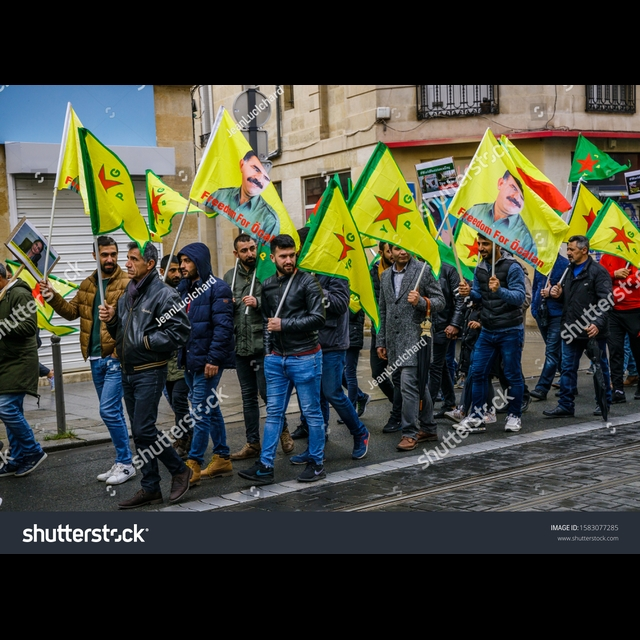APO: (495, 169, 526, 217), (238, 150, 268, 195)
YPG: (368, 182, 412, 237), (89, 152, 123, 202), (327, 219, 357, 271), (147, 181, 170, 228), (607, 225, 638, 254)
YPJ: (577, 150, 604, 179)
